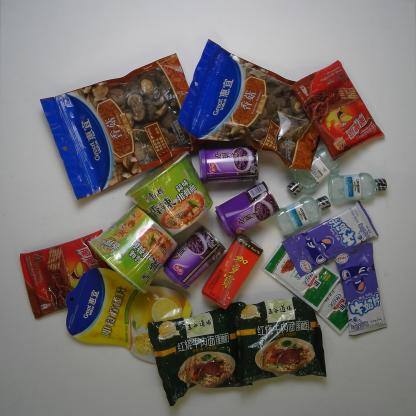Candy: (282, 200, 379, 278), (334, 241, 387, 337)
Canned Food: (164, 225, 226, 288), (215, 182, 281, 238), (198, 146, 260, 184)
Dessert: (20, 229, 124, 321), (292, 60, 385, 162)
Dried Food: (39, 53, 214, 203), (178, 39, 330, 172)
Dried Fruit: (65, 268, 193, 364)
Drink: (202, 235, 264, 310)
Instant Noodles: (146, 303, 253, 407), (227, 291, 328, 383), (90, 204, 179, 294), (126, 149, 214, 237)
Personal Hygiene: (286, 146, 342, 197), (273, 196, 331, 236), (328, 172, 388, 205)
Seasoner: (294, 248, 370, 336), (263, 234, 340, 310)
